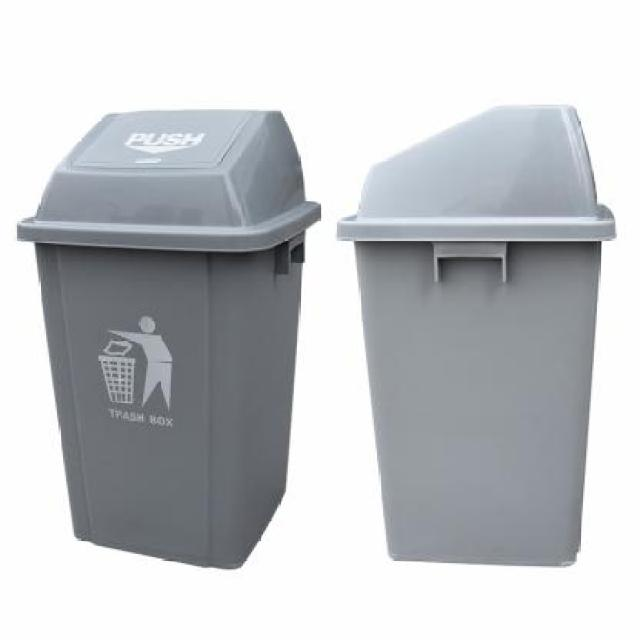garbage container: (13, 95, 330, 580), (326, 93, 628, 589)
